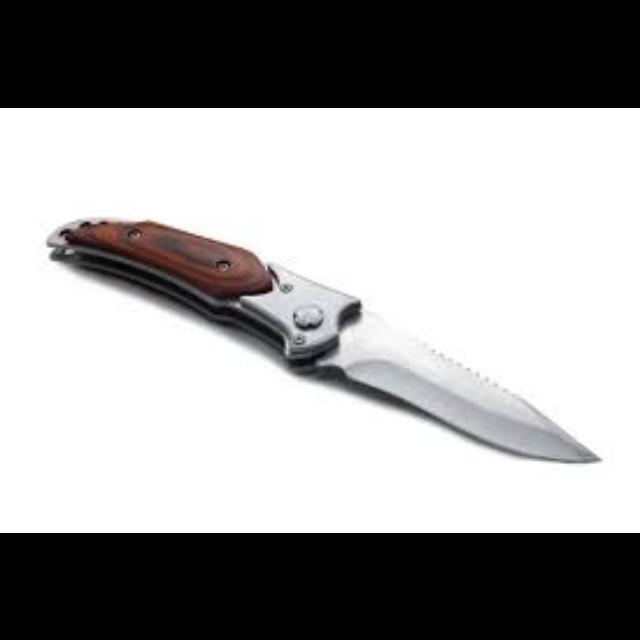knife: (44, 214, 602, 463)
